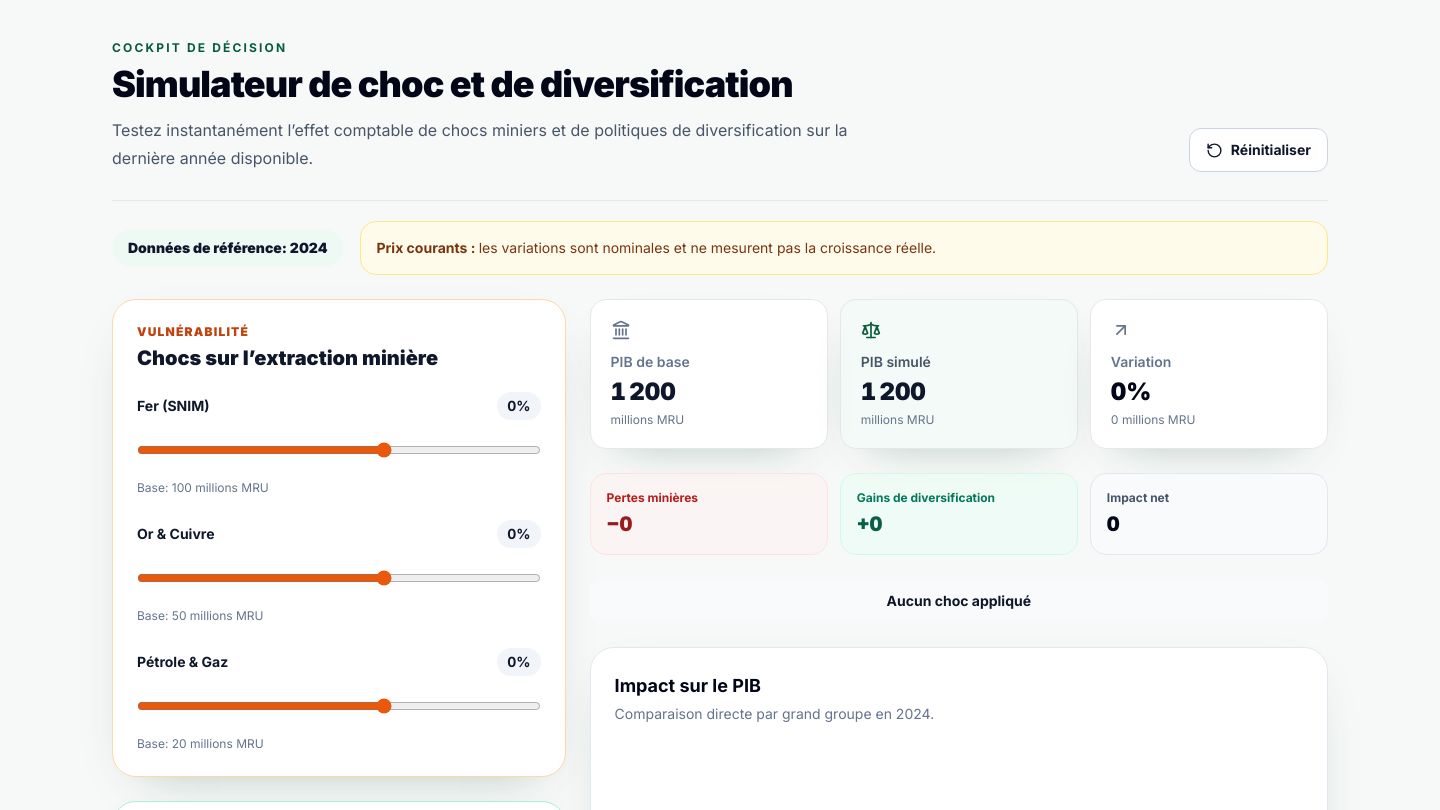
latest-year shock and diversification simulator › recalculates a mining loss locally without making simulation requests
Set the slider with test id "mining-snim_iron" to "-50" at (234, 450), box [137,428,541,472]
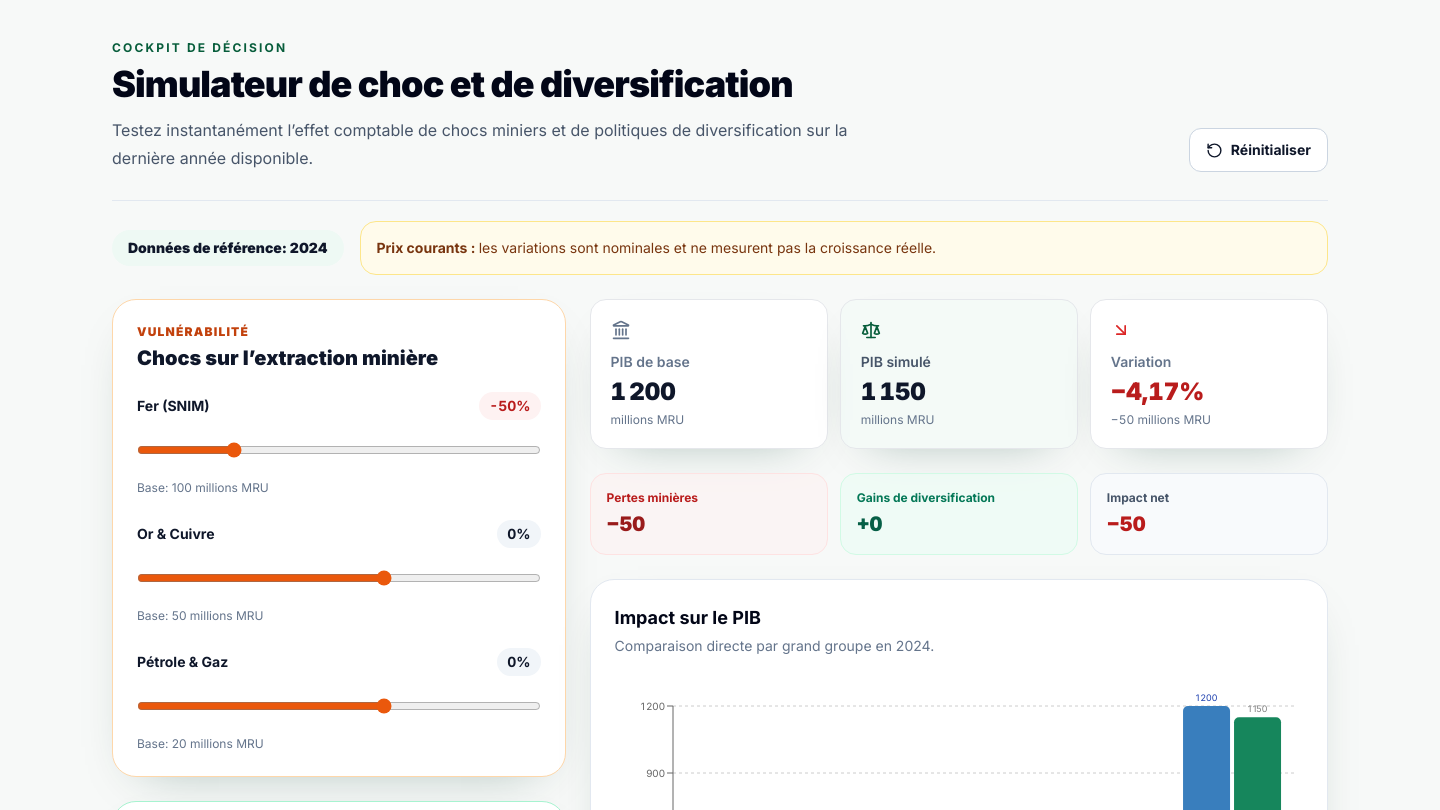
Result: the element with test id "mining-losses" shows "50" at [620,512,645,536]
Result: the element with test id "scenario-gdp-kpi" reads "PIB simulé 1 150 millions MRU" at [861,377,926,406]
Result: the element with test id "variation-kpi" reads "Variation −4,17% −50 millions MRU" at [1090,299,1328,449]
